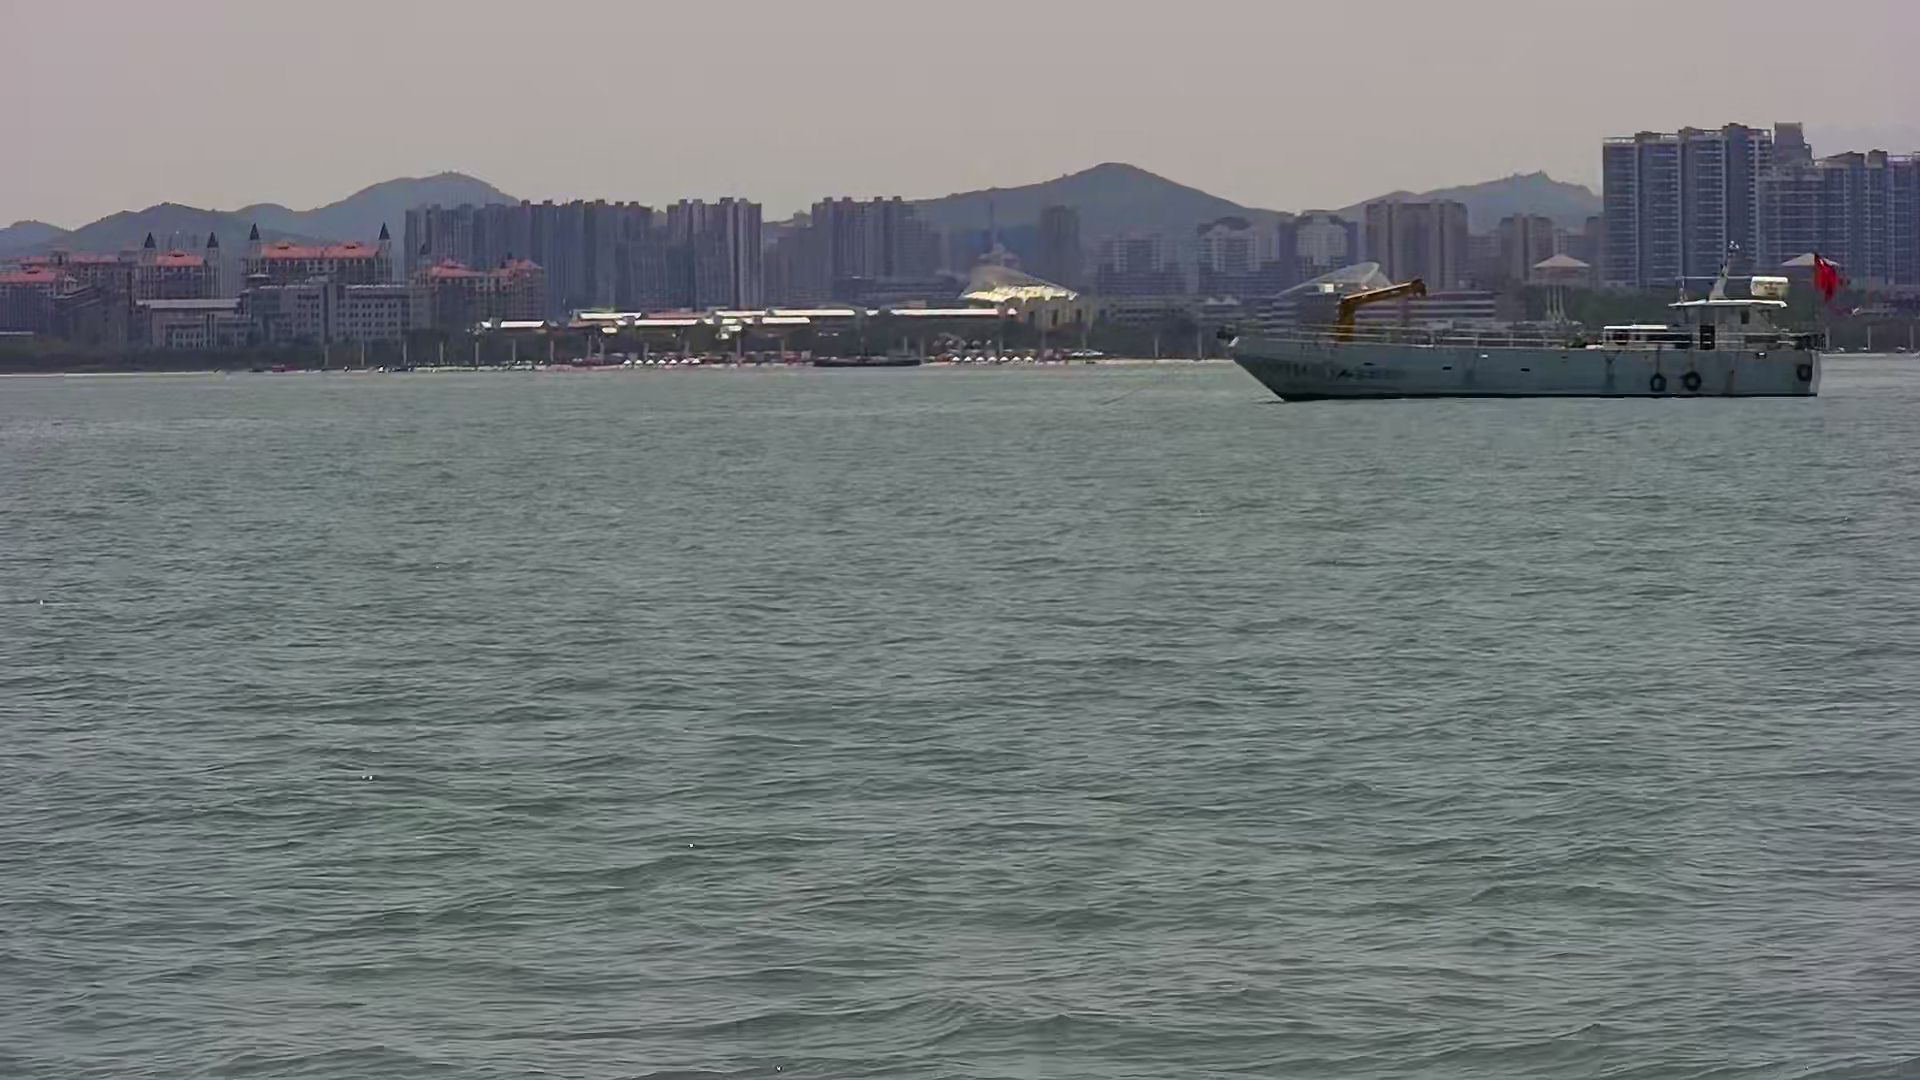ship: (1209, 253, 1842, 401)
